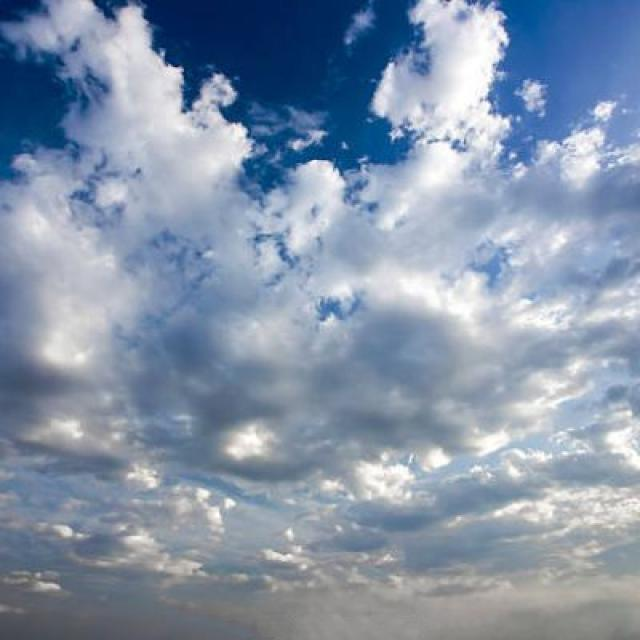Cs: (6, 89, 640, 545)
